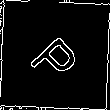P_NE: (24, 24, 86, 86)
